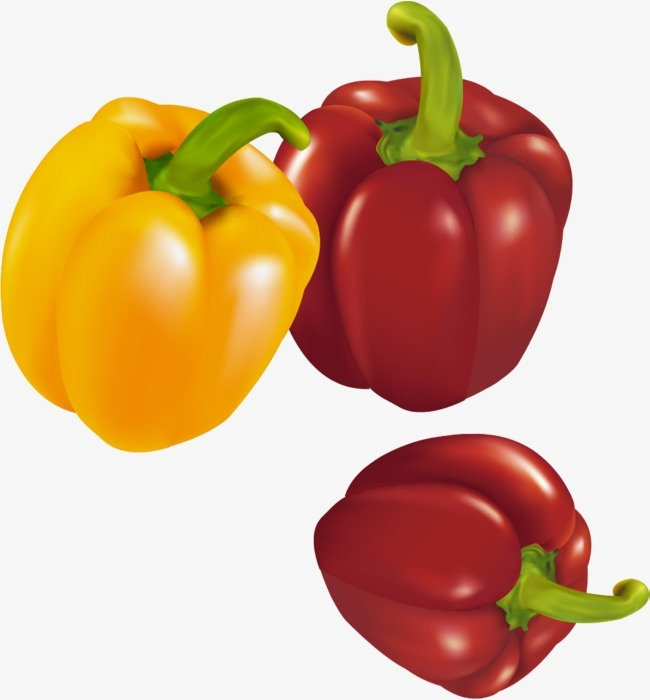fruit: (1, 97, 322, 453), (273, 77, 575, 412), (314, 432, 593, 700)
pedicle: (374, 118, 487, 182), (141, 153, 233, 222), (497, 543, 561, 634)
